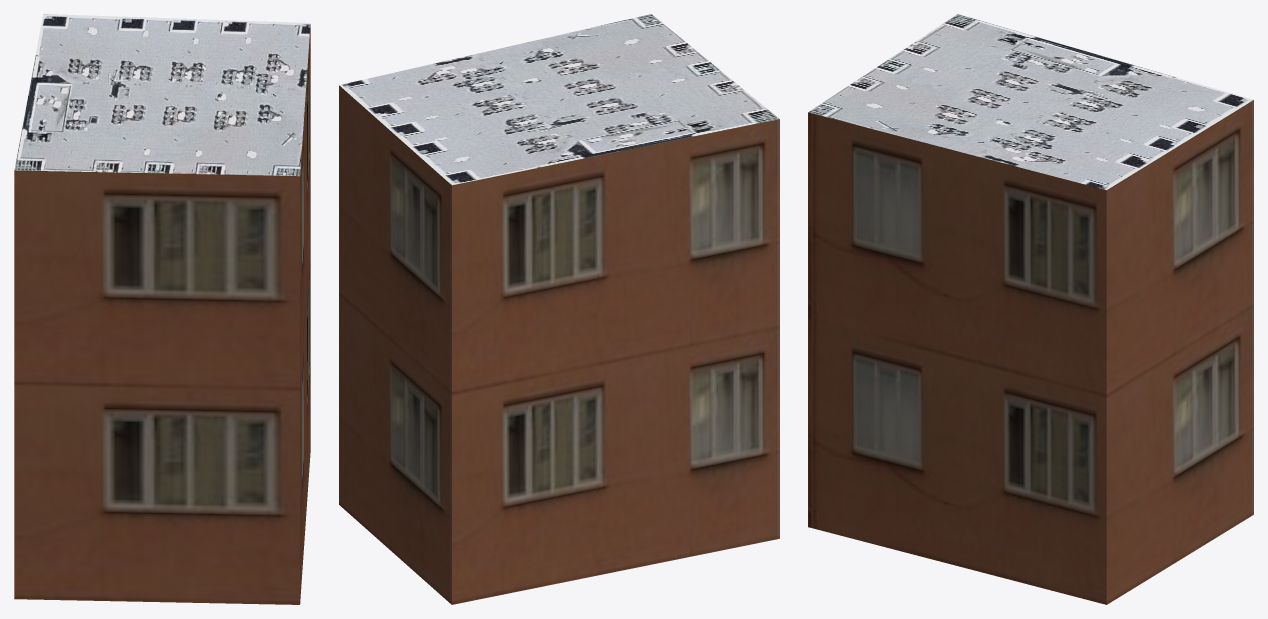
The model's file is ResTex__2679.fbx.
3 views of the same model, side by side, from view 1: azimuth 30°, elevation 25°; view 2: azimuth 150°, elevation 25°; view 3: azimuth 270°, elevation 25° (orthographic). The views are drawn at different scales.
Visible parts, largest first — view 1: CityEngineMaterial_20_m, CityEngineMaterial_4_m; view 2: CityEngineMaterial_20_m, CityEngineMaterial_4_m; view 3: CityEngineMaterial_20_m, CityEngineMaterial_4_m.
Boxes of the visible parts, box(x1,y1,x2,y2) form: CityEngineMaterial_20_m: box(14, 24, 310, 604); CityEngineMaterial_4_m: box(14, 14, 310, 176); CityEngineMaterial_20_m: box(339, 85, 779, 604); CityEngineMaterial_4_m: box(339, 14, 779, 185); CityEngineMaterial_20_m: box(808, 100, 1253, 604); CityEngineMaterial_4_m: box(808, 14, 1253, 189).
Size of the model in its own units: 5.47 by 6 by 5.84.
2 materials, 2 textured.
